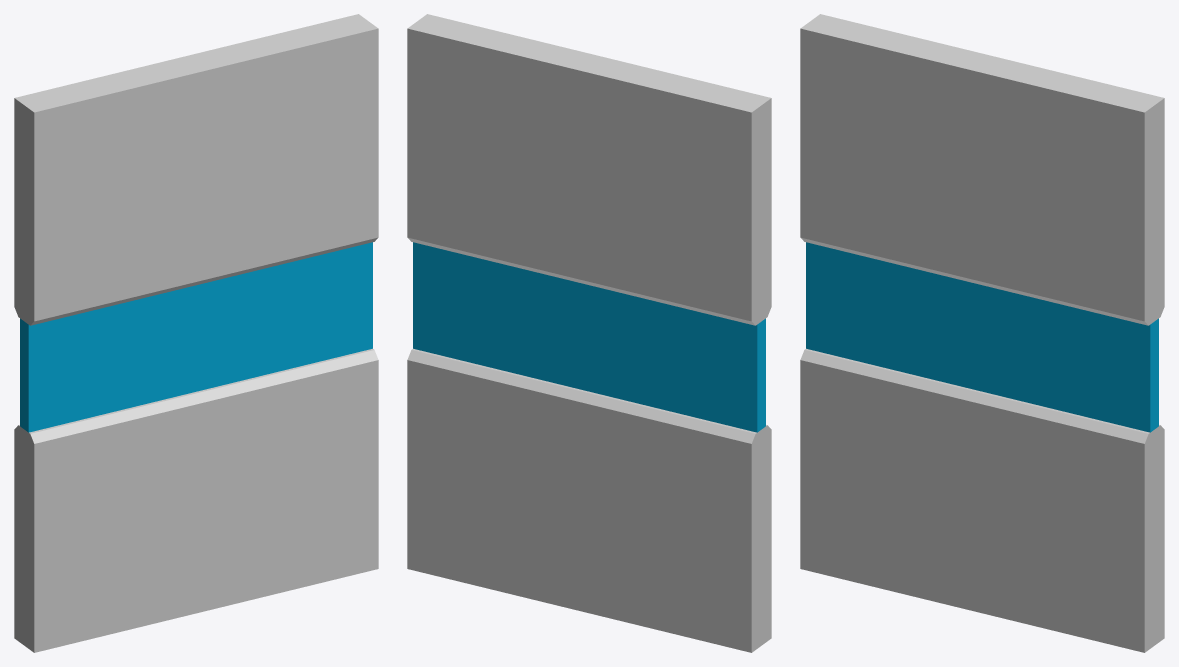
Rendered from K2_wall_121.fbx.
The picture shows the model from 3 angles, left to right: view 1: azimuth 30°, elevation 25°; view 2: azimuth 150°, elevation 25°; view 3: azimuth 330°, elevation 25°; orthographic projection.
Visible parts, largest first — view 1: group1_polySurface38; view 2: group1_polySurface38; view 3: group1_polySurface38.
Part boxes in pixels (x1,y1,x2,y2): group1_polySurface38: (14, 14, 378, 652); group1_polySurface38: (407, 14, 771, 652); group1_polySurface38: (800, 14, 1164, 652).
Bounding box in the file's own units: 20 × 30 × 2.
